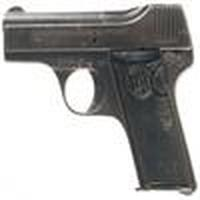gun: (3, 5, 200, 194)
